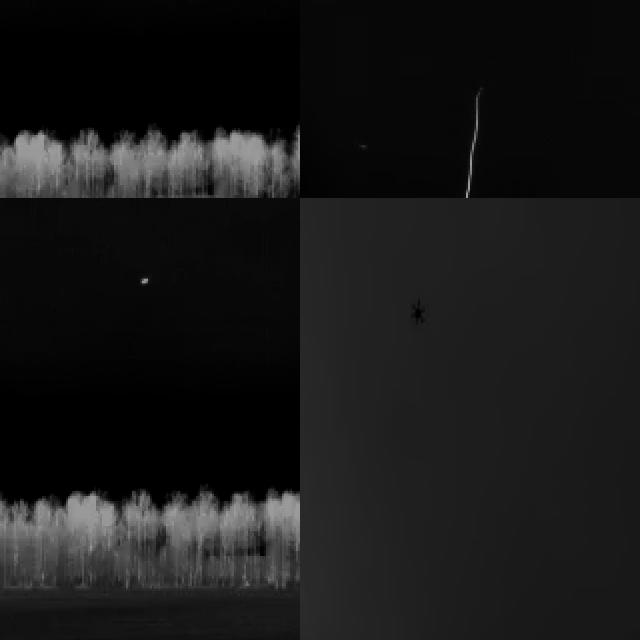0: (357, 135, 379, 163)
1: (135, 271, 161, 299)
drone: (410, 296, 427, 331)
